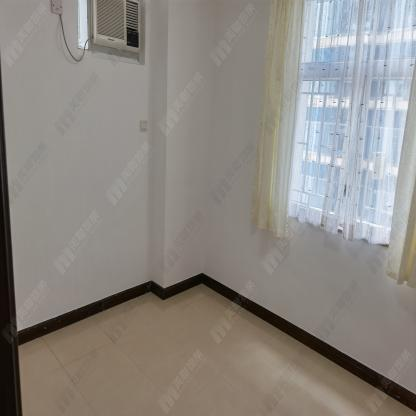AC: (90, 0, 139, 53)
